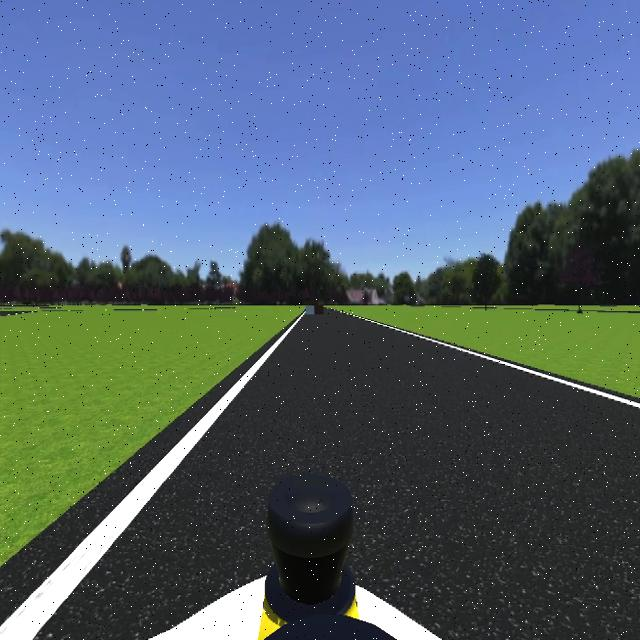road: (35, 314, 640, 640)
solid_line: (0, 316, 302, 640), (349, 314, 640, 411)
